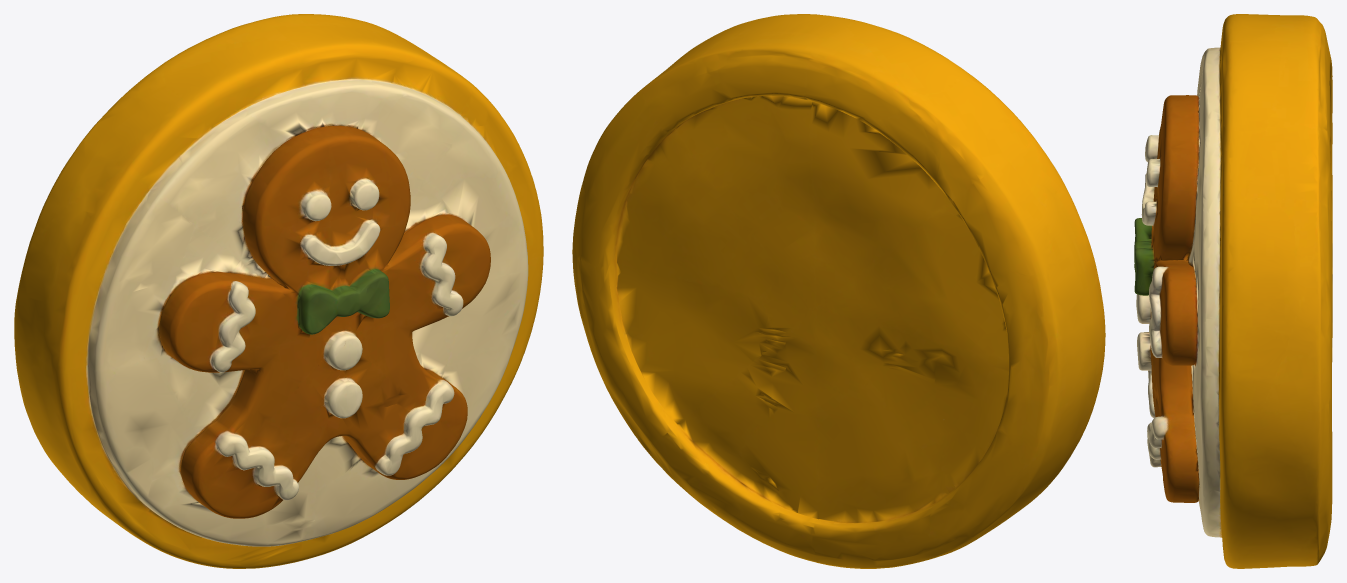
File: vending-gingerbread-button-web.glb
3 renders of one model, left to right at view 1: azimuth 30°, elevation 25°; view 2: azimuth 150°, elevation 25°; view 3: azimuth 270°, elevation 25°, orthographic. The views are drawn at different scales.
Visible parts, largest first — view 1: tripo_node_8606beb8-574e-45c7-a21f-cc47f939ac8c; view 2: tripo_node_8606beb8-574e-45c7-a21f-cc47f939ac8c; view 3: tripo_node_8606beb8-574e-45c7-a21f-cc47f939ac8c.
Part boxes in pixels (<box>): tripo_node_8606beb8-574e-45c7-a21f-cc47f939ac8c: <box>14,14,543,568</box>; tripo_node_8606beb8-574e-45c7-a21f-cc47f939ac8c: <box>572,14,1105,568</box>; tripo_node_8606beb8-574e-45c7-a21f-cc47f939ac8c: <box>1134,14,1332,568</box>.
Bounding box in the file's own units: 0.9767 × 0.9798 × 0.3504.
Materials: 1 (1 with a texture image).
